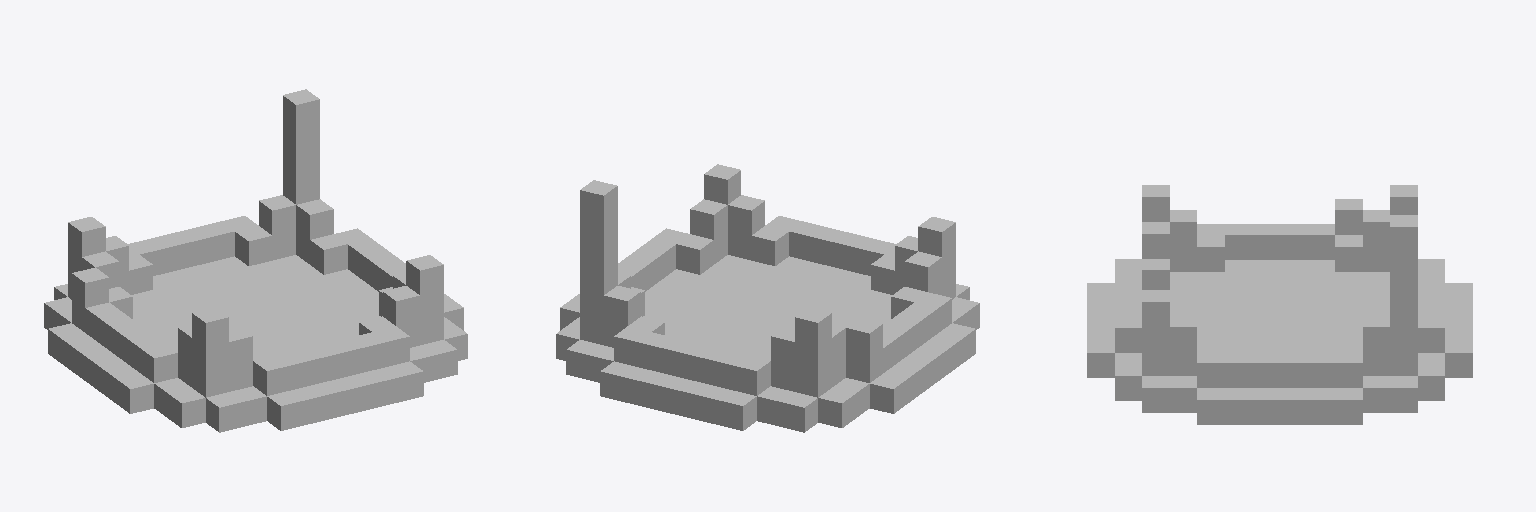
The model's file is teleporterGreen.obj.
3 renders of one model, left to right at view 1: azimuth 30°, elevation 25°; view 2: azimuth 150°, elevation 25°; view 3: azimuth 270°, elevation 25°, orthographic.
Parts seen in each view (by area): view 1: object 1; view 2: object 1; view 3: object 1.
Boxes of the visible parts, x1=… form: object 1: x1=44, y1=89, x2=467, y2=432; object 1: x1=556, y1=164, x2=979, y2=432; object 1: x1=1087, y1=185, x2=1472, y2=424.
Size of the model in its own units: 1.4 by 0.7 by 1.4.